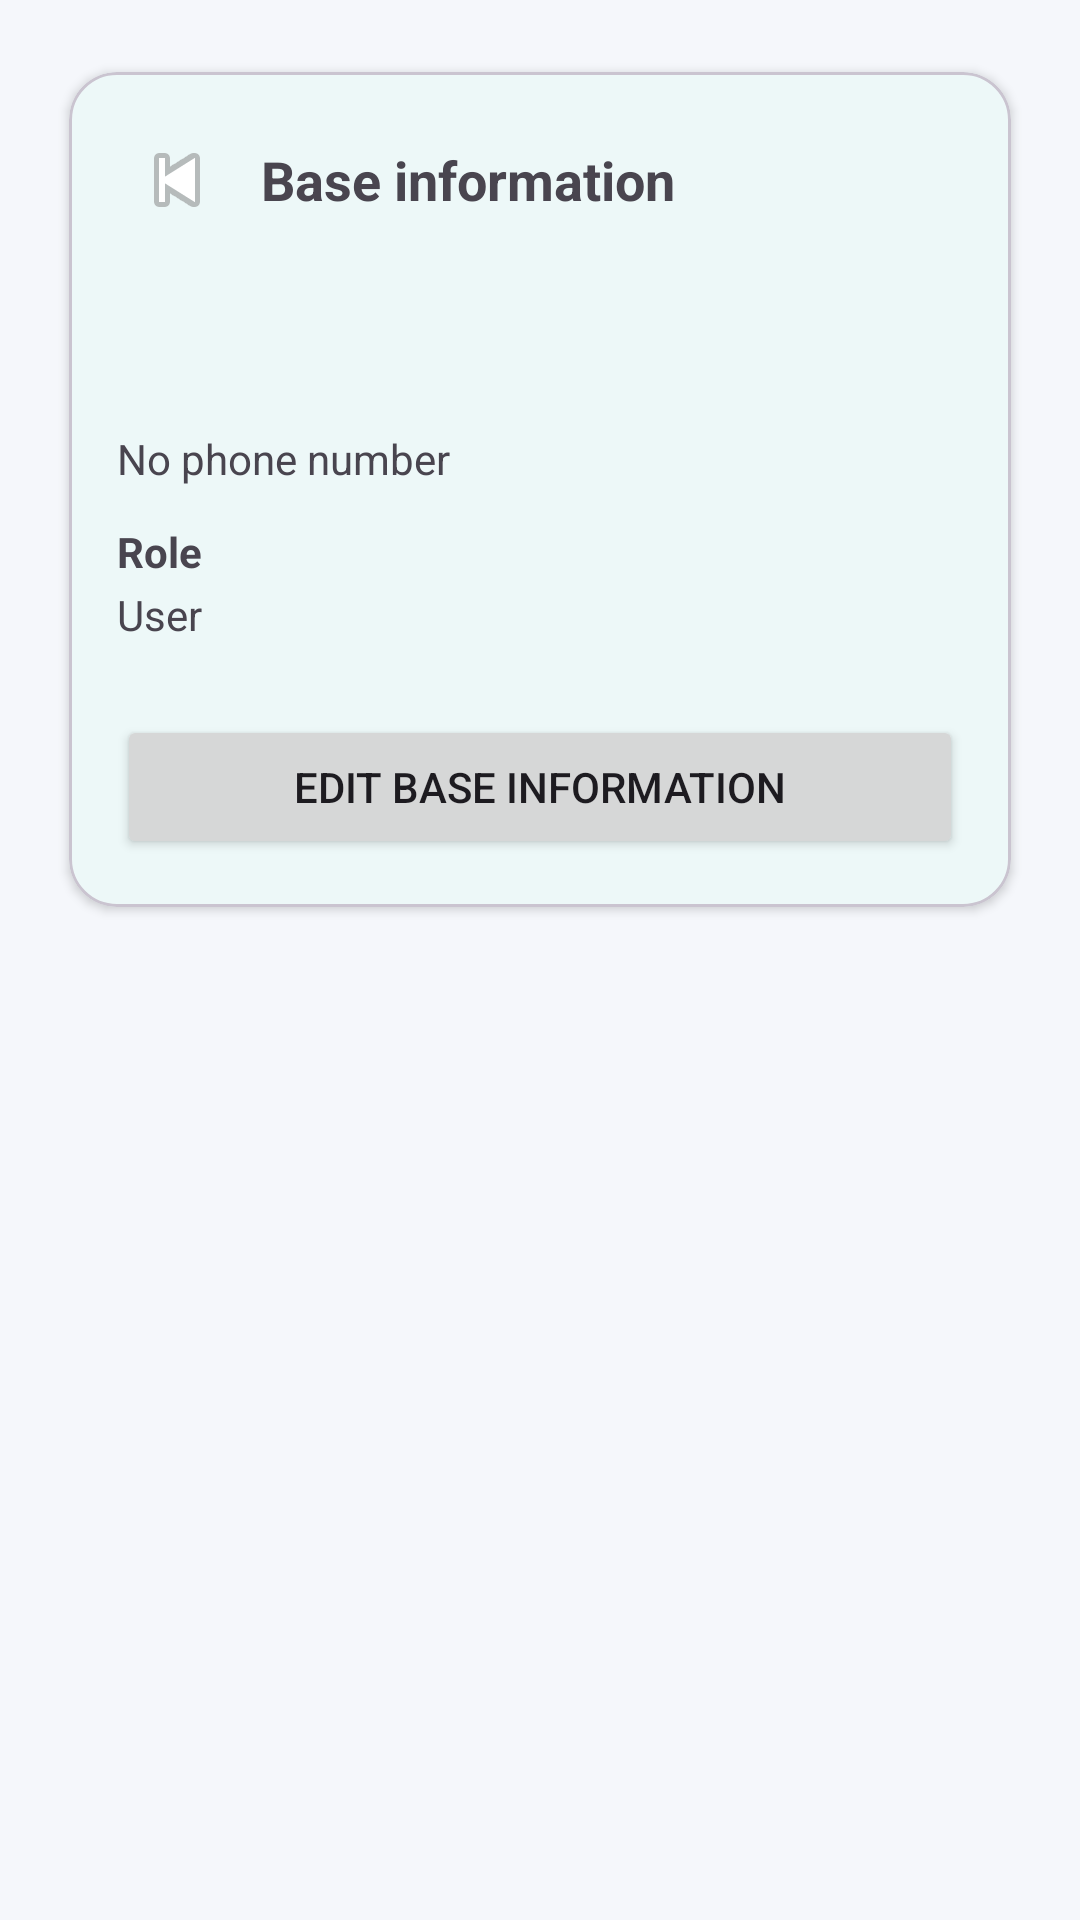

Icon click points for this 1080 × 1920 phone screenshot, format [x,y]:
Back to profile: [177,180]
